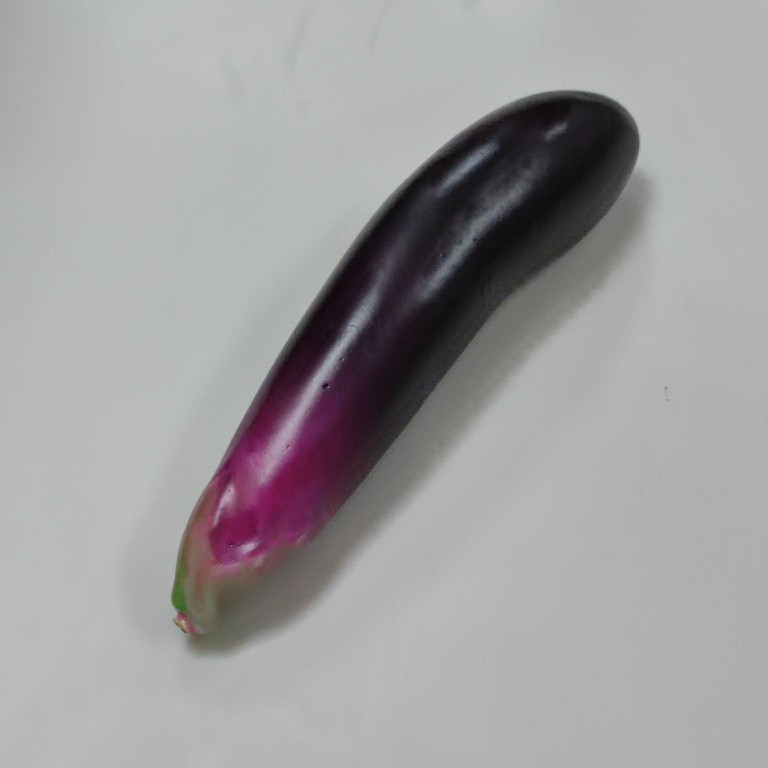fruit_eggplant: (168, 86, 643, 643)
